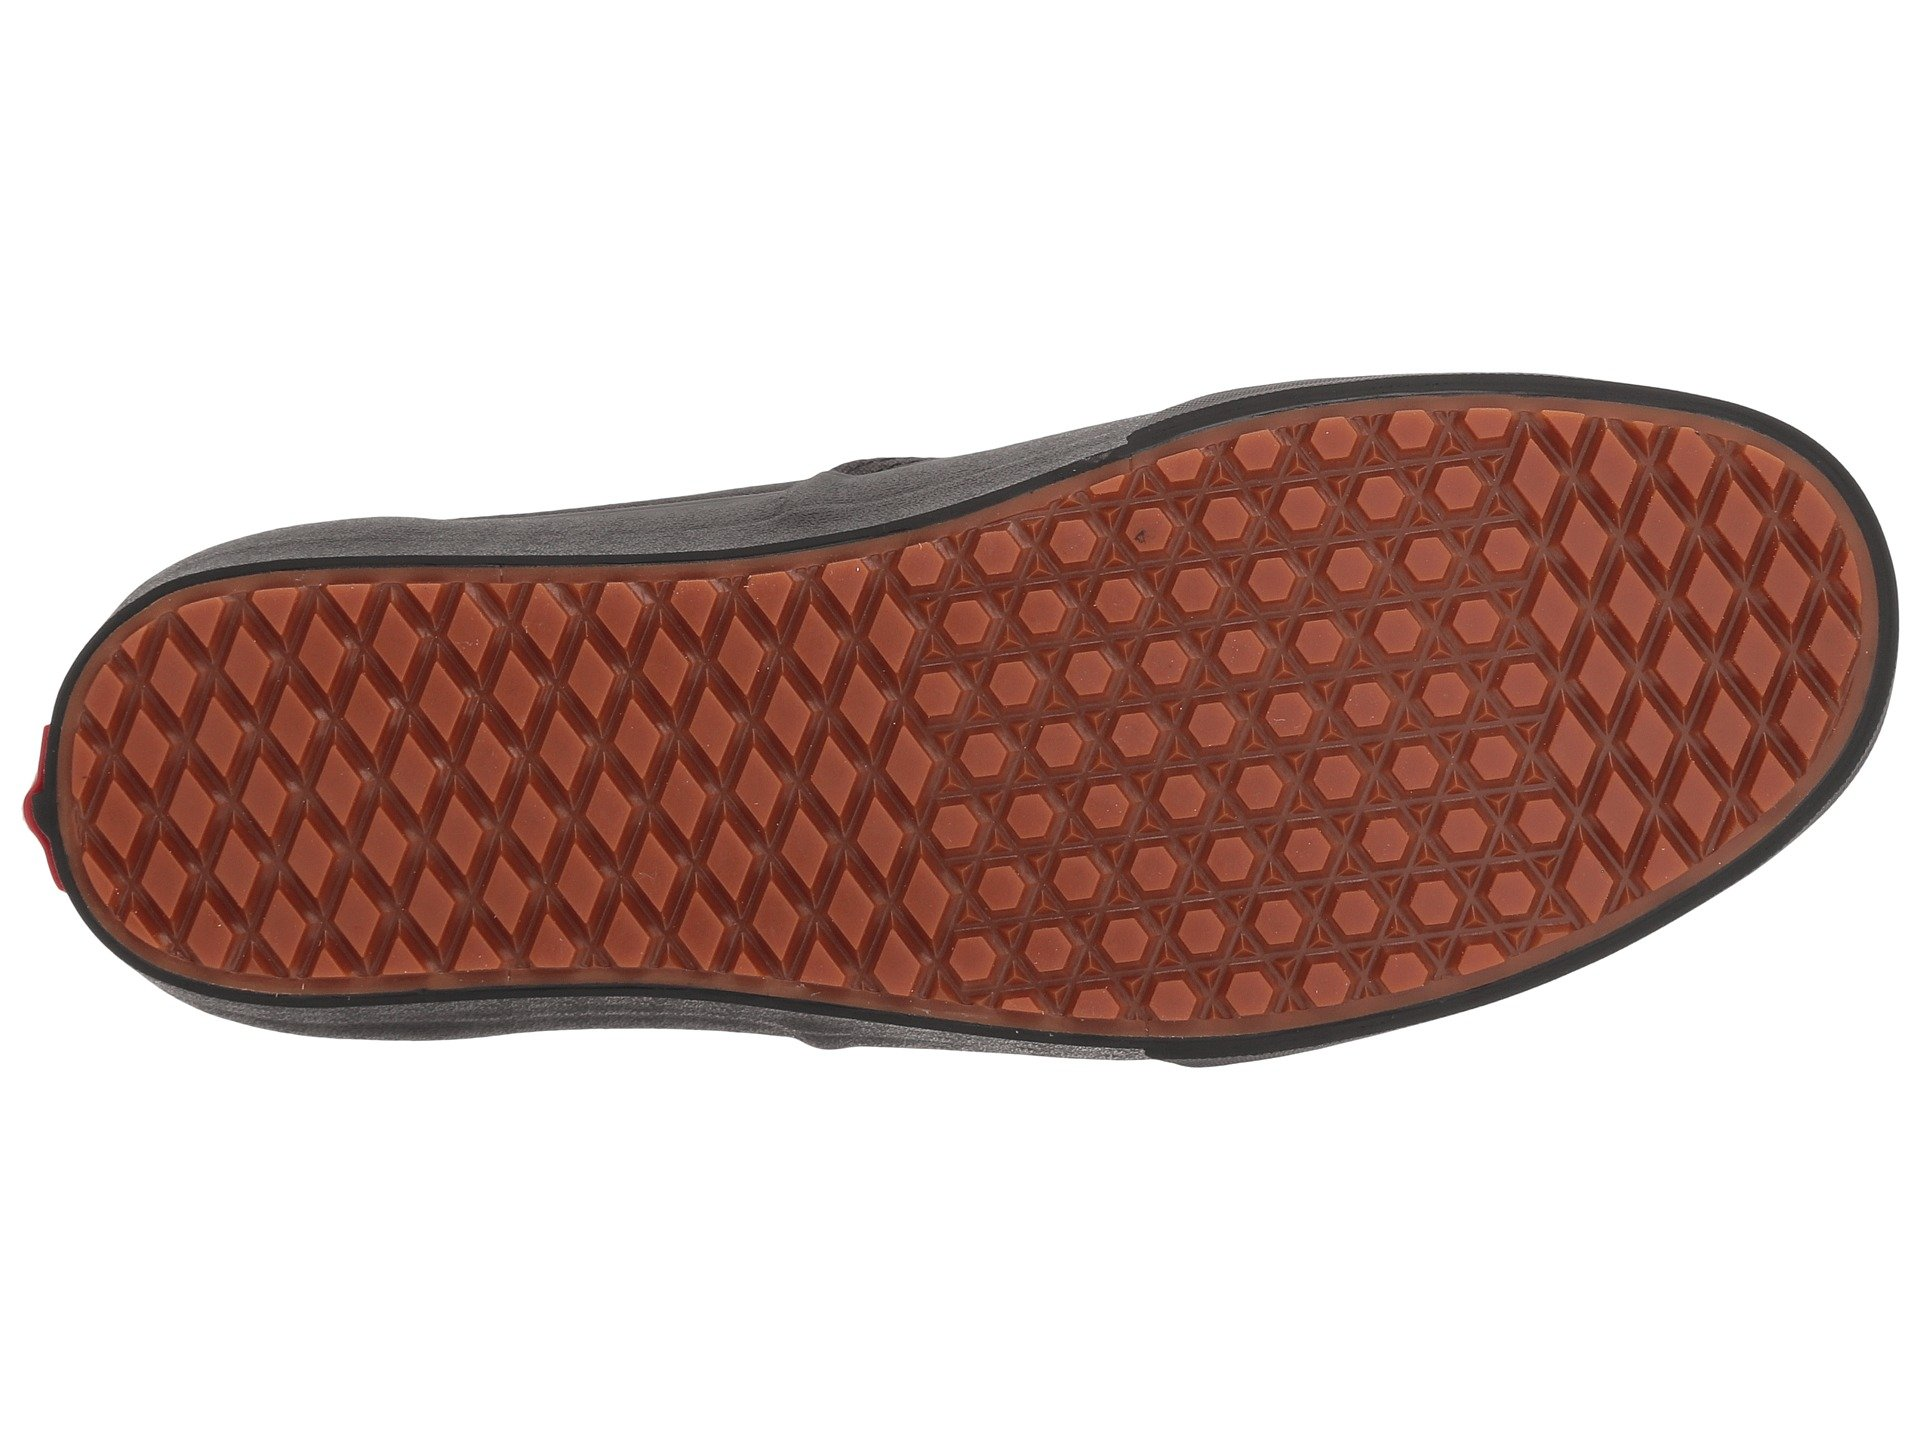polygon: (993, 591, 1380, 1003)
quad: (408, 619, 751, 933), (1569, 460, 1807, 687)
